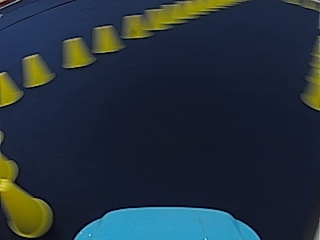cone: (1, 177, 52, 234), (21, 53, 54, 87), (61, 37, 94, 68), (301, 56, 319, 110), (91, 24, 123, 53), (0, 71, 23, 105), (122, 15, 149, 39)
